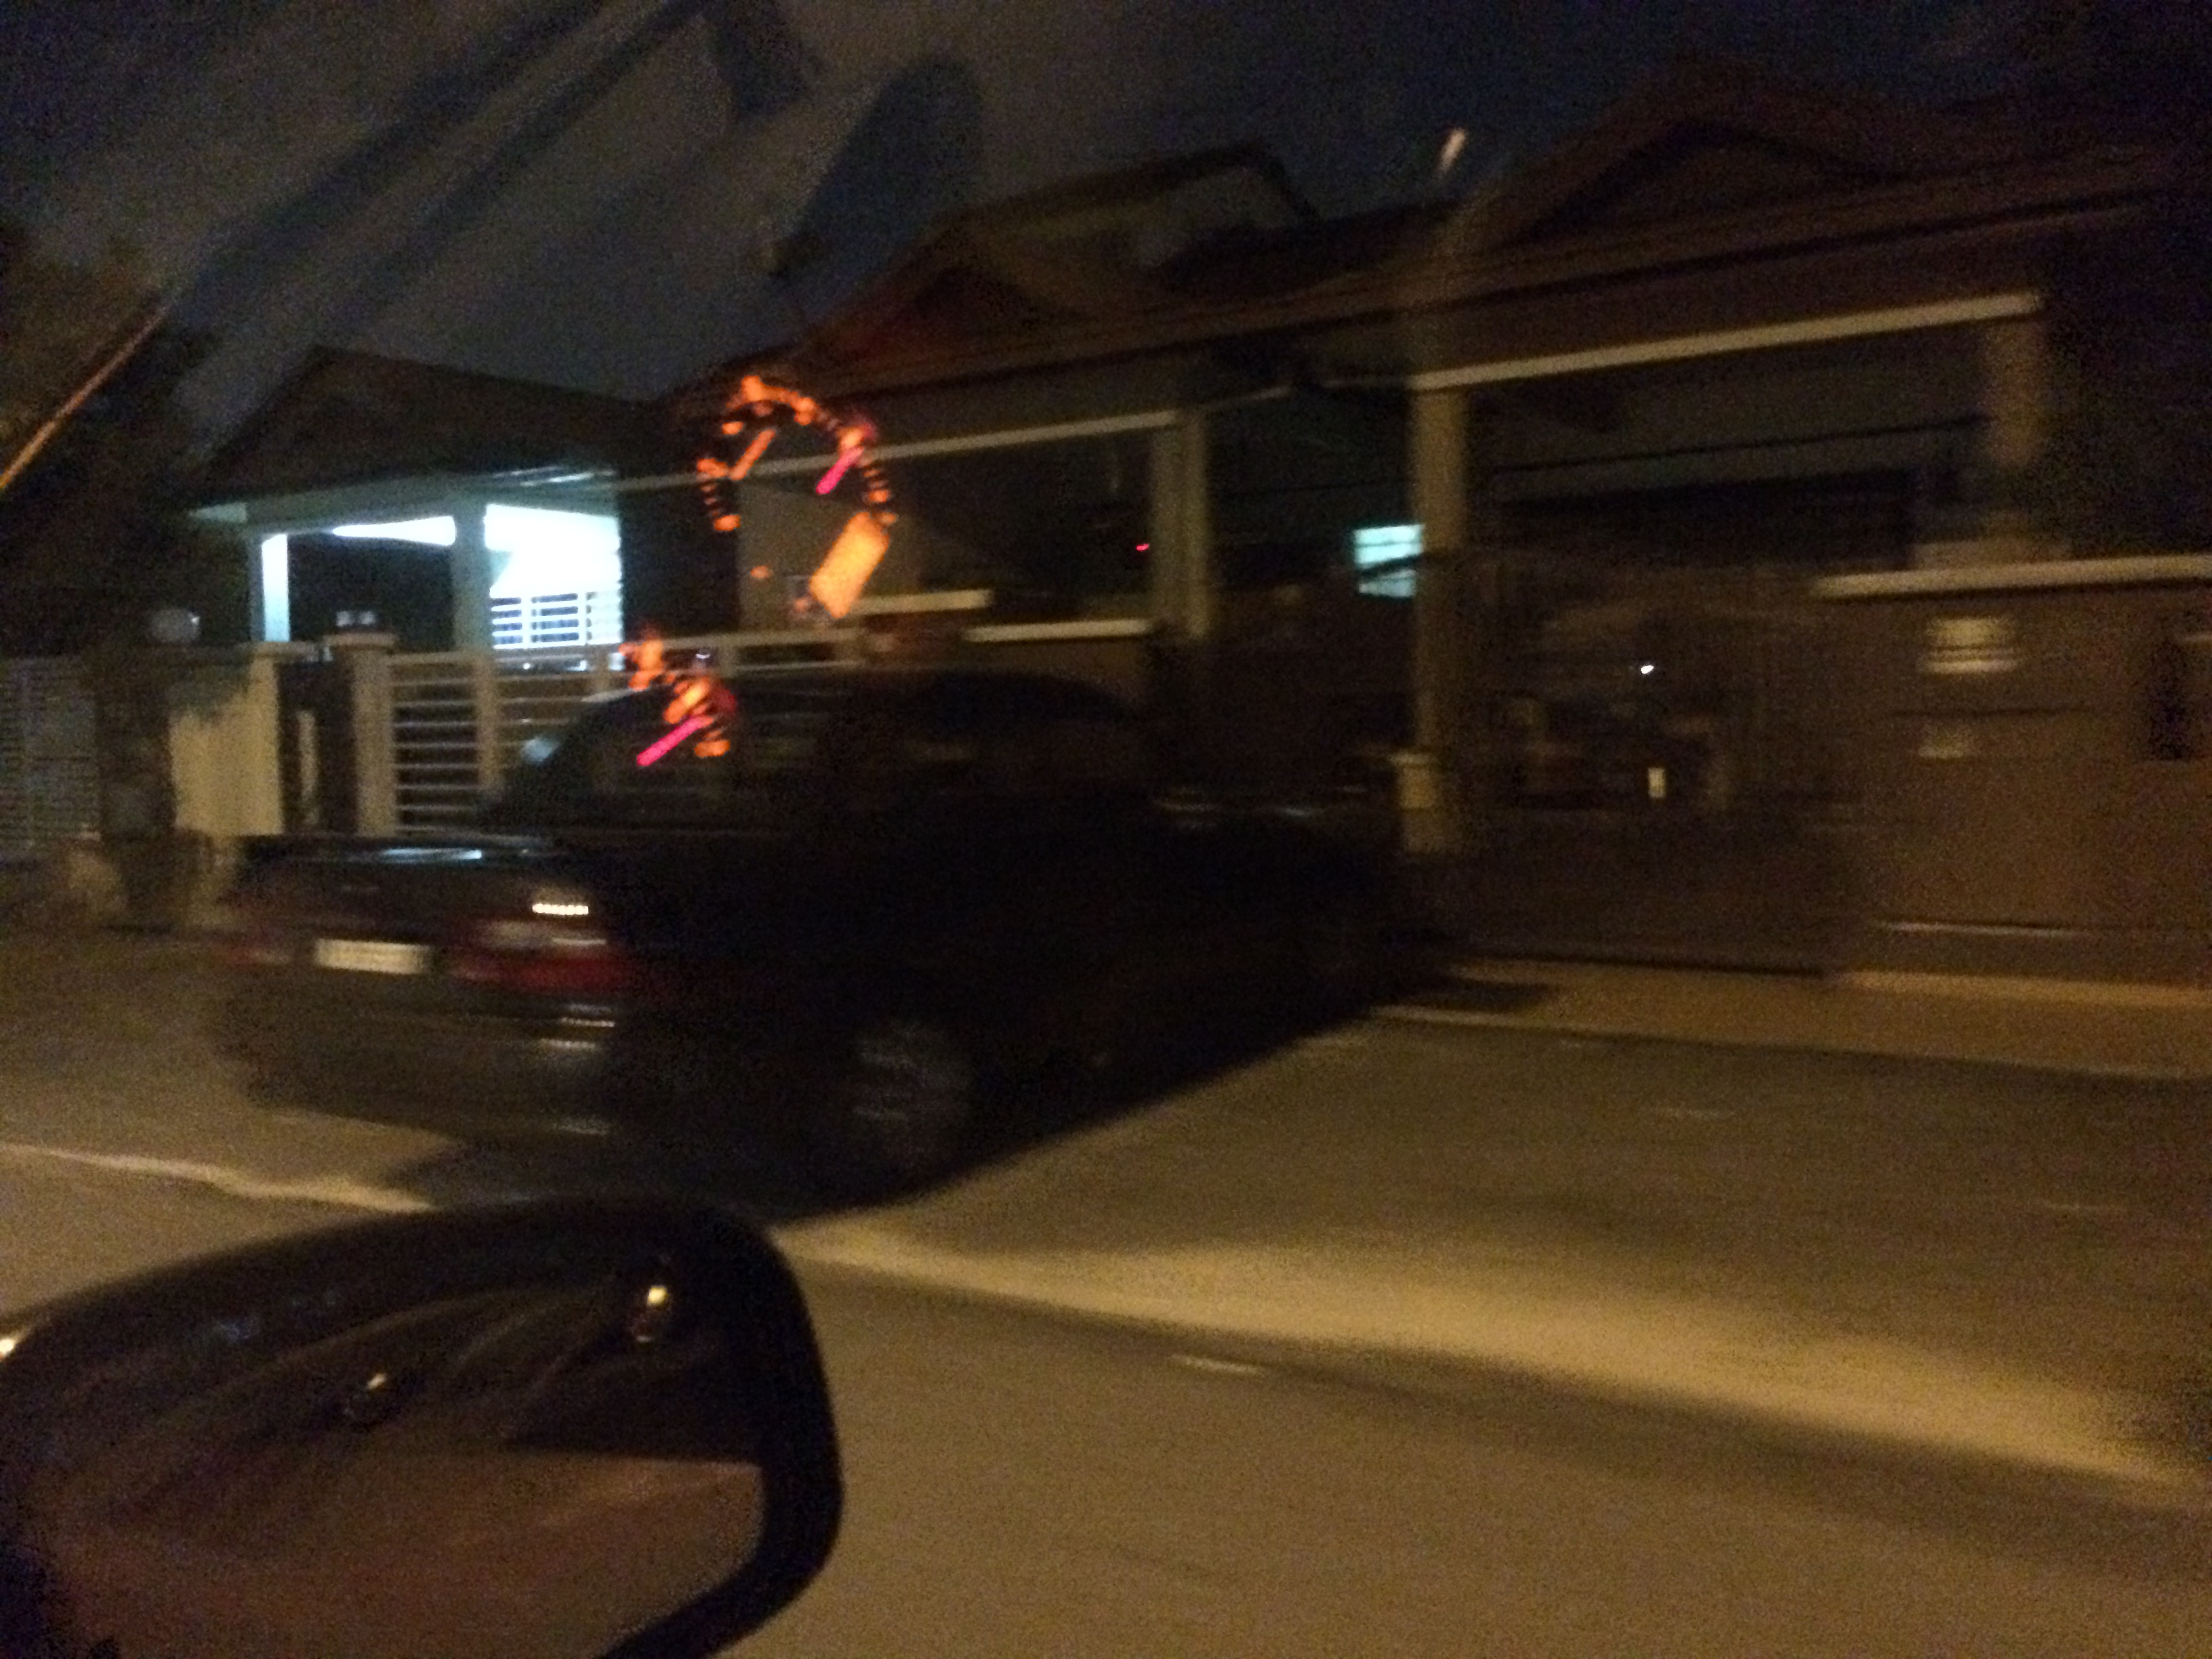car: (172, 624, 1467, 1232)
